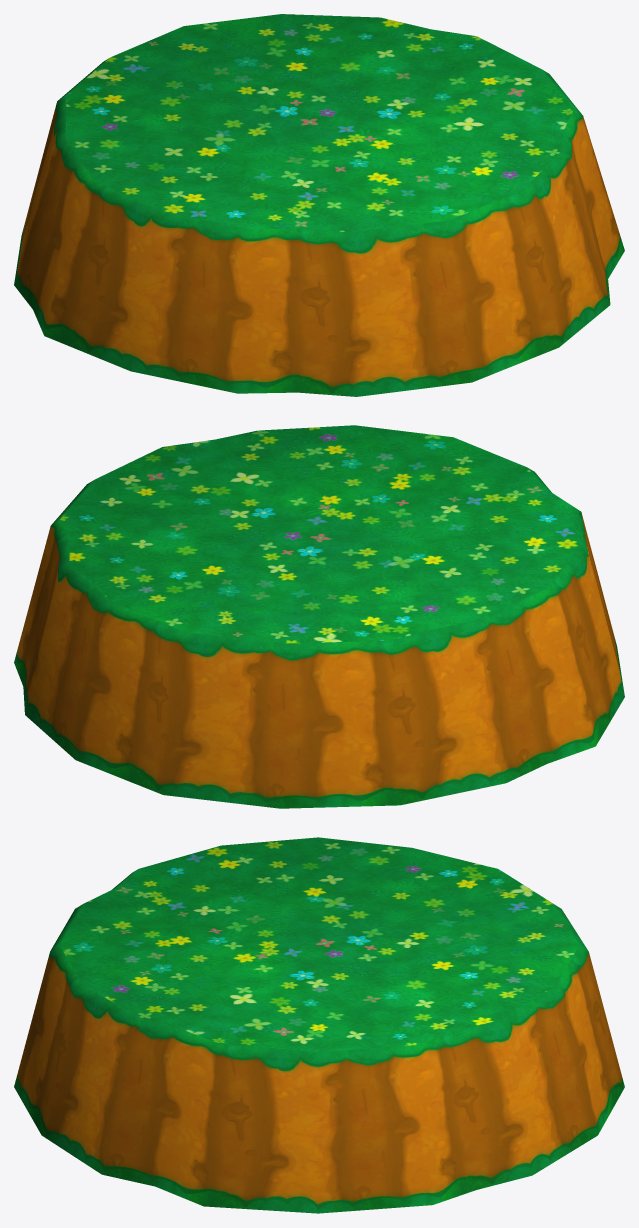
The model's file is Hill02_a01.FBX.
The picture shows the model from 3 angles, top to bottom: view 1: azimuth 30°, elevation 25°; view 2: azimuth 150°, elevation 25°; view 3: azimuth 270°, elevation 25°; orthographic projection. The views are drawn at different scales.
Visible parts, largest first — view 1: Hill02_a01; view 2: Hill02_a01; view 3: Hill02_a01.
Boxes of the visible parts, <box> form: Hill02_a01: <box>14,14,624,396</box>; Hill02_a01: <box>14,425,624,808</box>; Hill02_a01: <box>14,837,624,1213</box>.
Size of the model in its own units: 991 by 256 by 995.
2 materials, 2 textured.
